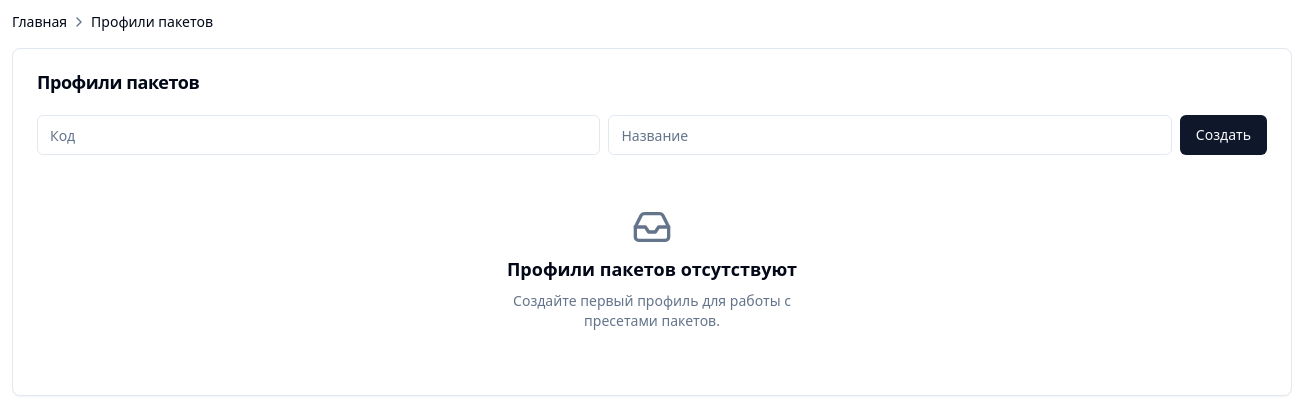
package action states › keeps profile form values and shows error when profile creation fails
The image size is (1292, 413).
Expected: the heading "Профили пакетов отсутствуют" is shown, 507,255 -> 797,283
Type "pack-default" into the field with placeholder "Код" at (319, 135), box 37,115 -> 600,155
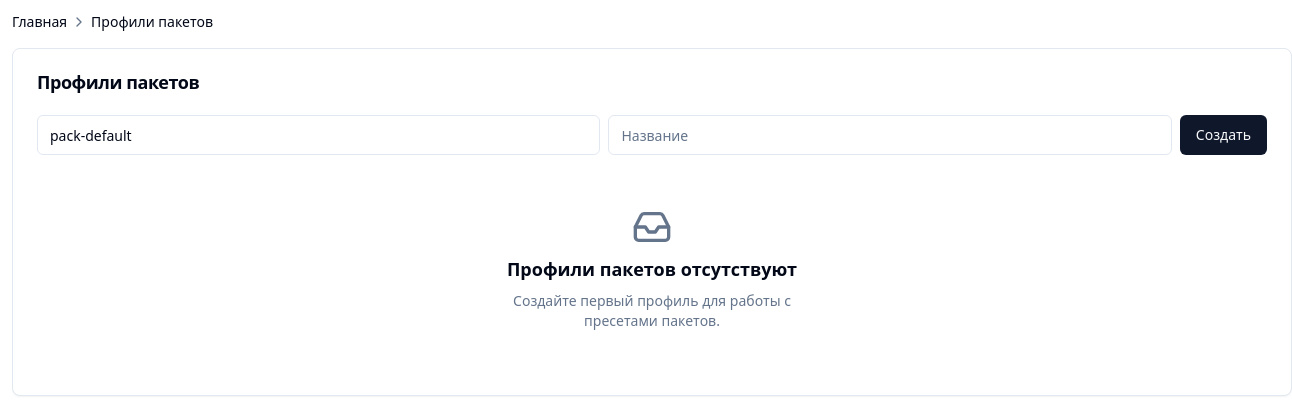
Type "Pack profile" into the field with placeholder "Название" at (890, 135), box 608,115 -> 1172,155
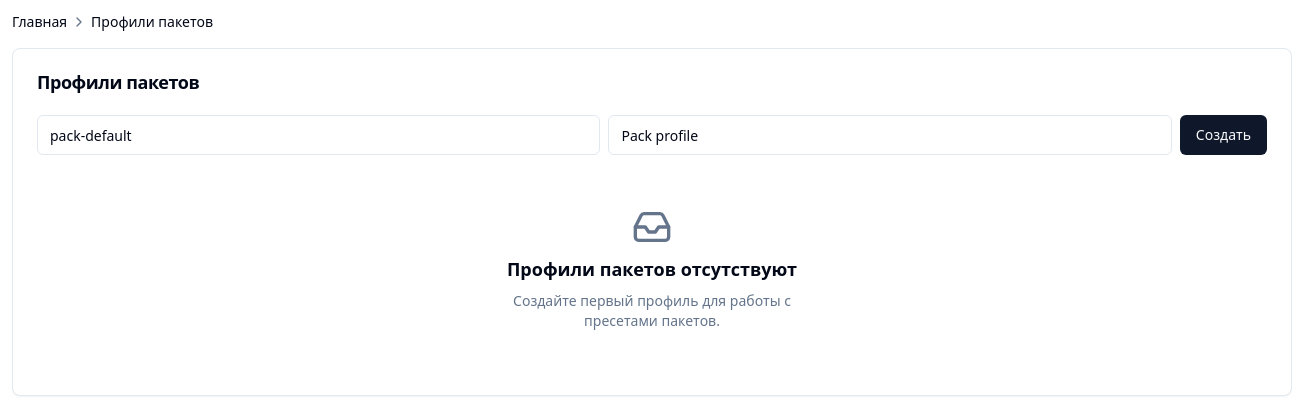
Click the button "Создать" at (1223, 135), box 1180,115 -> 1267,155
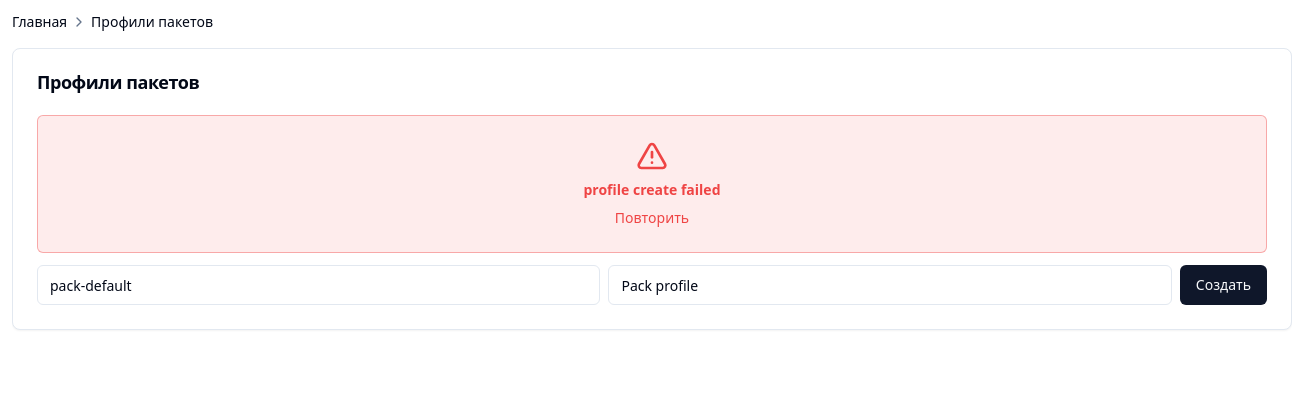
Expected: the message shows "profile create failed", 584,180 -> 720,199
